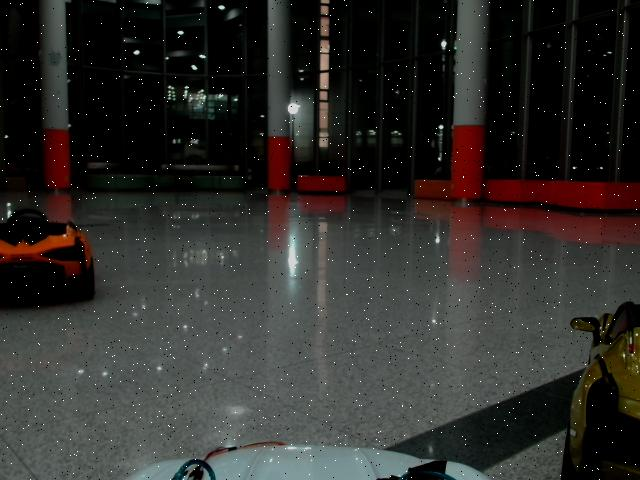car: (1, 210, 95, 308)
